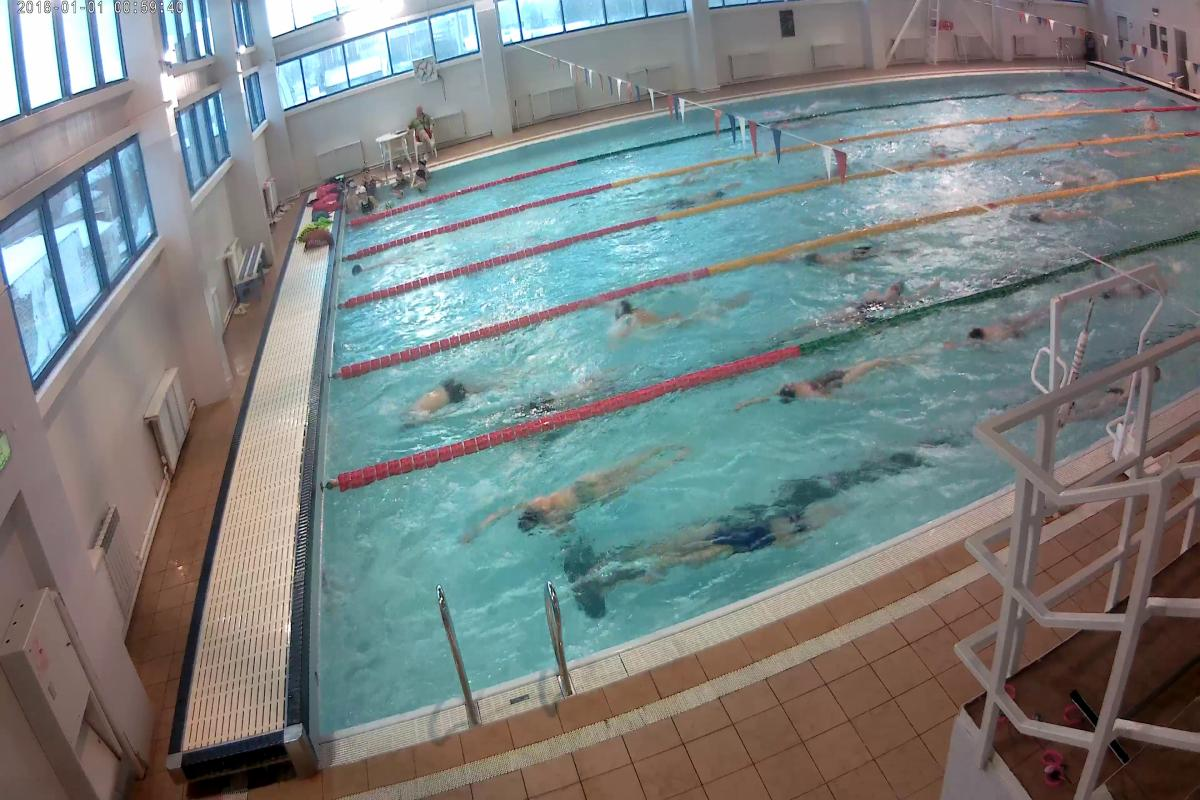swimmer: (510, 445, 668, 534), (662, 515, 819, 568), (744, 362, 885, 410), (951, 299, 1053, 346), (816, 296, 913, 334), (613, 293, 698, 334), (405, 372, 484, 413), (514, 379, 608, 411), (804, 248, 892, 272), (1021, 200, 1098, 226)
